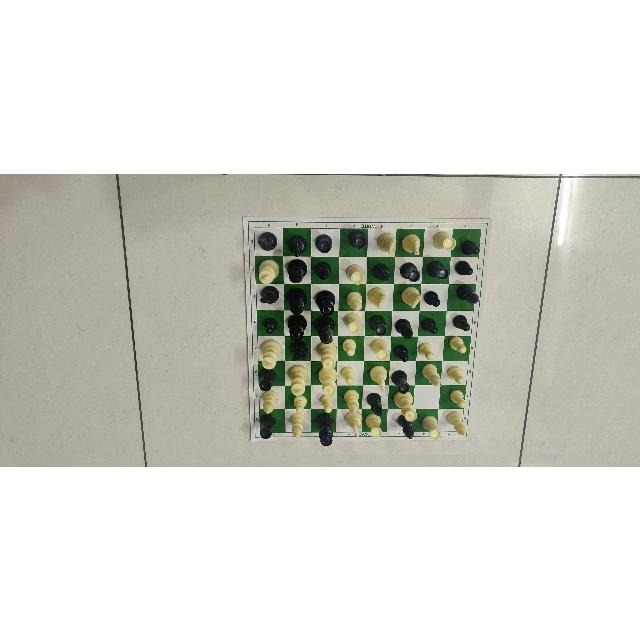black-bishop: (454, 281, 482, 306), (392, 313, 415, 339), (365, 391, 389, 415), (370, 259, 393, 283), (397, 412, 415, 439), (312, 261, 332, 281)
black-king: (284, 259, 311, 285), (284, 286, 309, 314), (312, 314, 336, 343)
black-knight: (285, 228, 307, 256), (255, 228, 279, 252), (285, 340, 310, 360), (257, 284, 280, 304)
black-pawn: (459, 234, 482, 255), (450, 312, 474, 332), (256, 315, 280, 335), (392, 342, 414, 362), (454, 259, 475, 279), (420, 315, 440, 335), (423, 287, 443, 306)
black-queen: (315, 414, 335, 446), (285, 315, 309, 339), (313, 290, 336, 314)
black-rook: (390, 366, 415, 392), (425, 259, 451, 283), (256, 414, 280, 439), (343, 227, 367, 251), (397, 259, 421, 283), (313, 233, 337, 253), (255, 370, 277, 390), (366, 315, 388, 335)
white-bishop: (444, 409, 468, 437), (419, 363, 443, 389), (340, 388, 363, 412), (258, 391, 282, 413), (343, 287, 364, 310), (289, 413, 307, 437)
white-king: (285, 363, 311, 394), (253, 258, 280, 284), (257, 338, 281, 367)
white-knight: (364, 363, 387, 391), (398, 230, 423, 254), (373, 230, 397, 254), (340, 413, 363, 437), (399, 286, 421, 308), (367, 286, 387, 308)
white-pawn: (446, 387, 469, 408), (448, 335, 468, 358), (445, 362, 466, 383), (416, 341, 436, 360), (339, 337, 359, 355), (340, 365, 358, 384), (290, 395, 308, 413), (318, 394, 336, 411)
white-queen: (314, 342, 339, 370), (315, 366, 338, 395)
white-rook: (428, 227, 458, 253), (421, 414, 444, 439), (341, 263, 364, 286), (366, 337, 388, 360), (364, 414, 384, 439), (343, 312, 361, 336)
